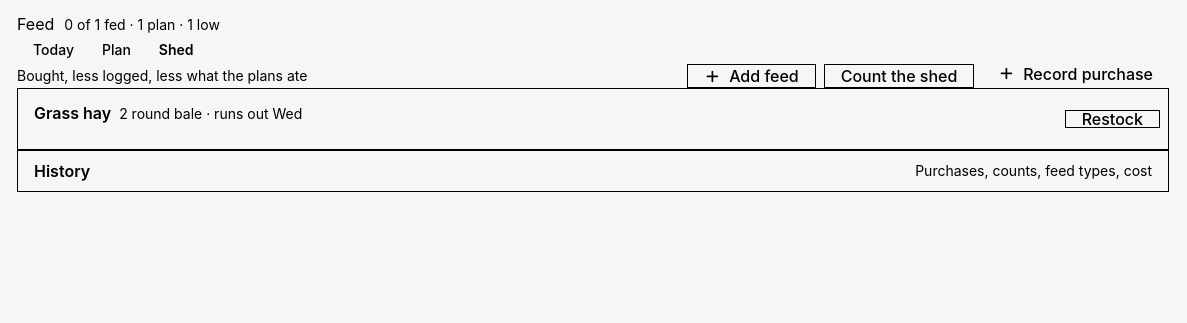
Test case: Farm › Feed › Shed › keeps the purchase and count logs behind History
This screenshot has width=1187, height=323.
Click the heading "History". click: [62, 171]
box: [34,161,1152,181]
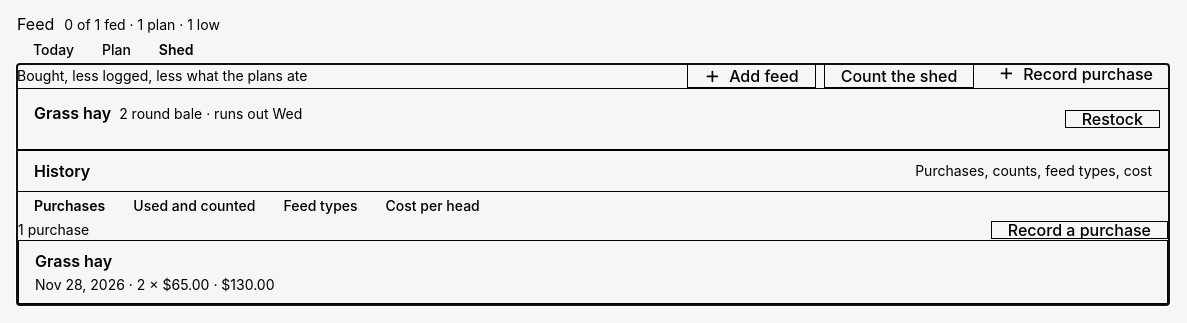
Expected: the tab "Purchases" is shown, [22,196,117,216]
Expected: the tab "Used and counted" is shown, [121,196,268,216]
Expected: the list named "Feed purchases" is shown, [18,240,1168,304]
